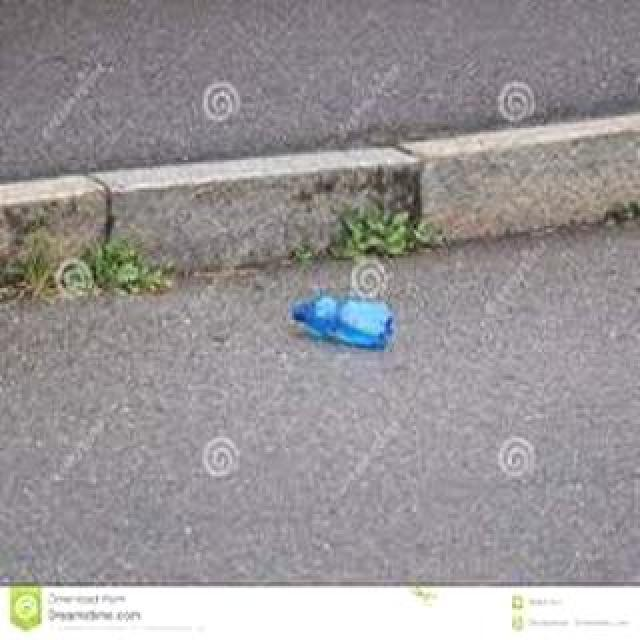Pet_Bottle: (282, 287, 394, 361)
